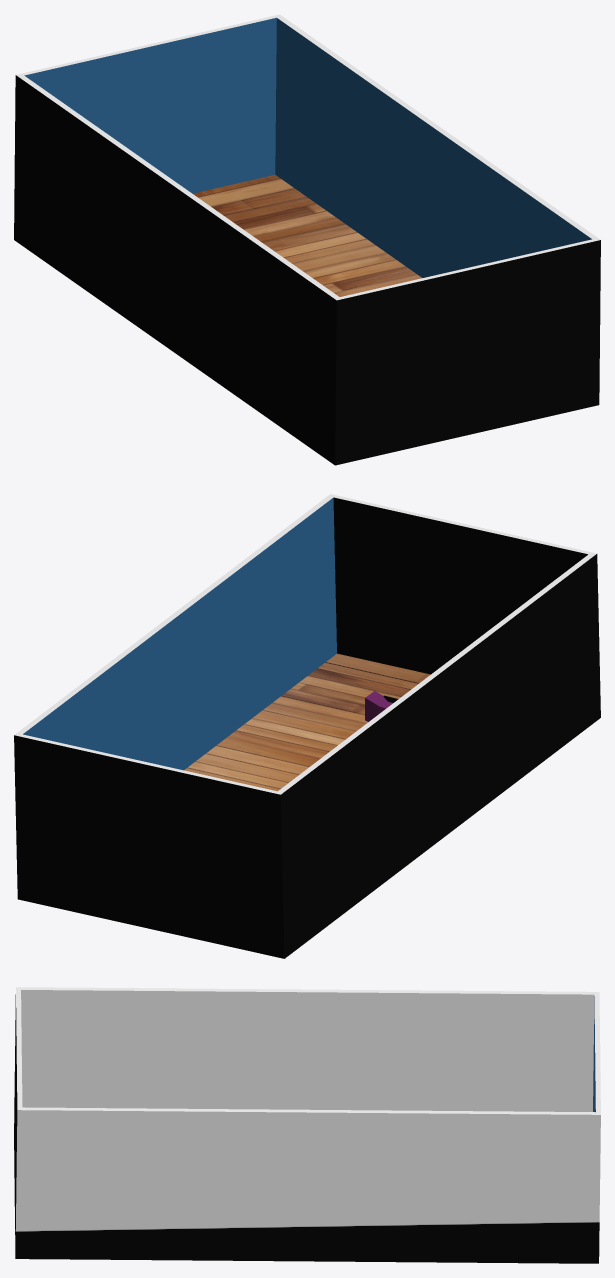
Rendered from dj house3.fbx.
The picture shows the model from 3 angles, top to bottom: view 1: azimuth 30°, elevation 25°; view 2: azimuth 150°, elevation 25°; view 3: azimuth 270°, elevation 25°; orthographic projection. The views are drawn at different scales.
Visible parts, largest first — view 1: dj_house1; view 2: dj_house1; view 3: dj_house1.
Part boxes in pixels (left/top/right/bottom): dj_house1: left=14, top=14, right=600, bottom=465; dj_house1: left=14, top=494, right=600, bottom=958; dj_house1: left=14, top=987, right=600, bottom=1263.
Size of the model in its own units: 1384 by 855 by 2834.
